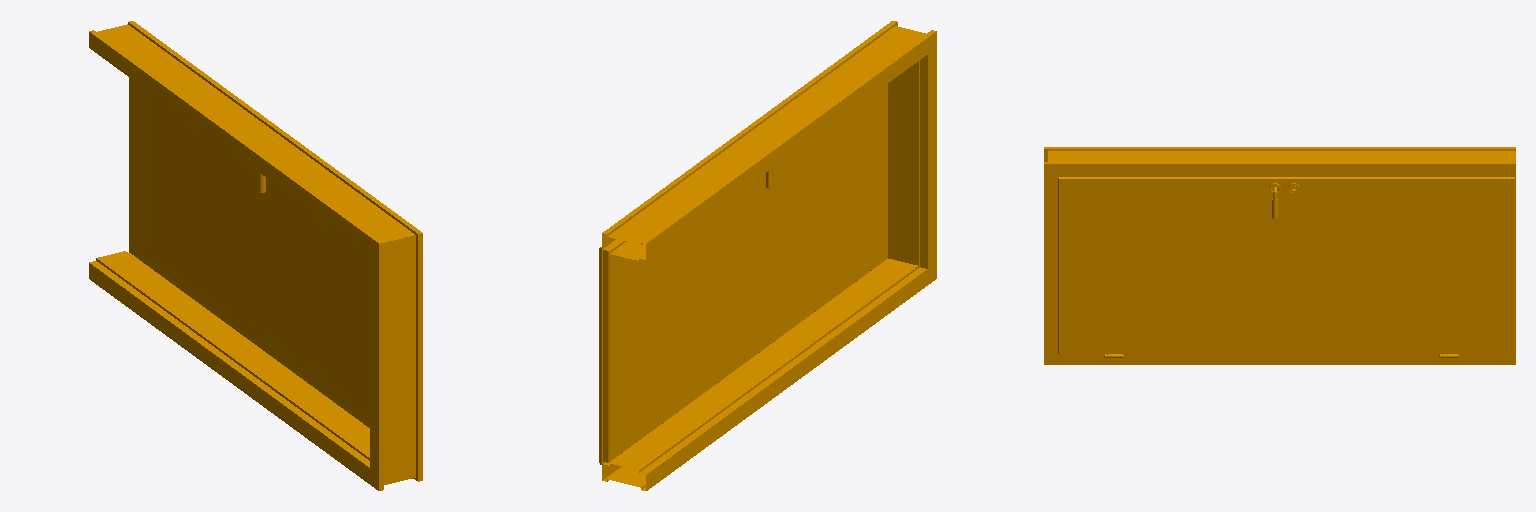
URDF robot description (door):
<?xml version="1.0"?>
<robot name="door">
 
    <link name="base_link">
        <visual>
            <origin rpy="0 0 0" xyz="0 0 0"/>
            <geometry>
                <mesh filename="urdf/door/door_mirror.dae" scale="0.01 0.01 0.01"/>
            </geometry>
 
        </visual>

 </link>
 
</robot>

--- Facts derived from the render (not from the file) ---
The picture shows the robot from 3 angles, left to right: view 1: azimuth 30°, elevation 25°; view 2: azimuth 150°, elevation 25°; view 3: azimuth 270°, elevation 25°; orthographic projection.
Model door with 1 links and 0 joints (none), rooted at base_link, posed all joints at 0.
Links seen in each view (by area): view 1: base_link; view 2: base_link; view 3: base_link.
Link boxes in pixels (x1,y1,x2,y2): base_link: (89,21,422,490); base_link: (599,21,936,490); base_link: (1044,147,1515,364).
Size in the robot's own frame: 0.2606 by 2.06 by 0.97 metres.
Meshes: 1 distinct files referenced, 1 mesh visuals loaded (1 Collada DAE).
